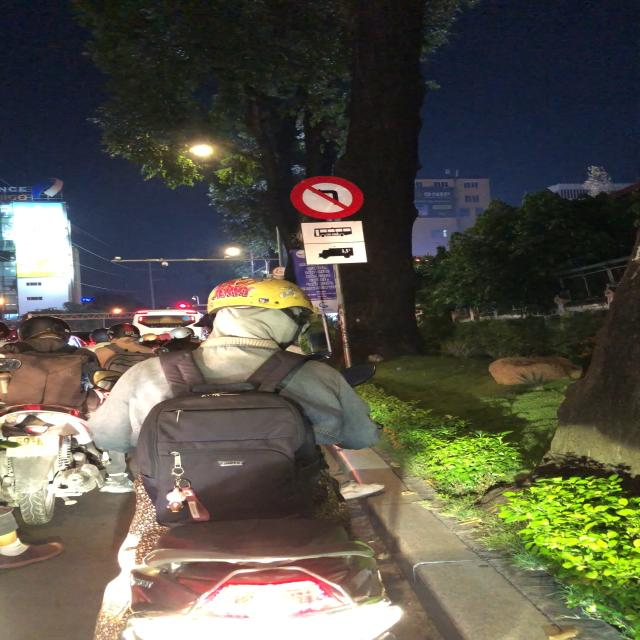Bien bao cam re trai: (289, 174, 363, 222)
